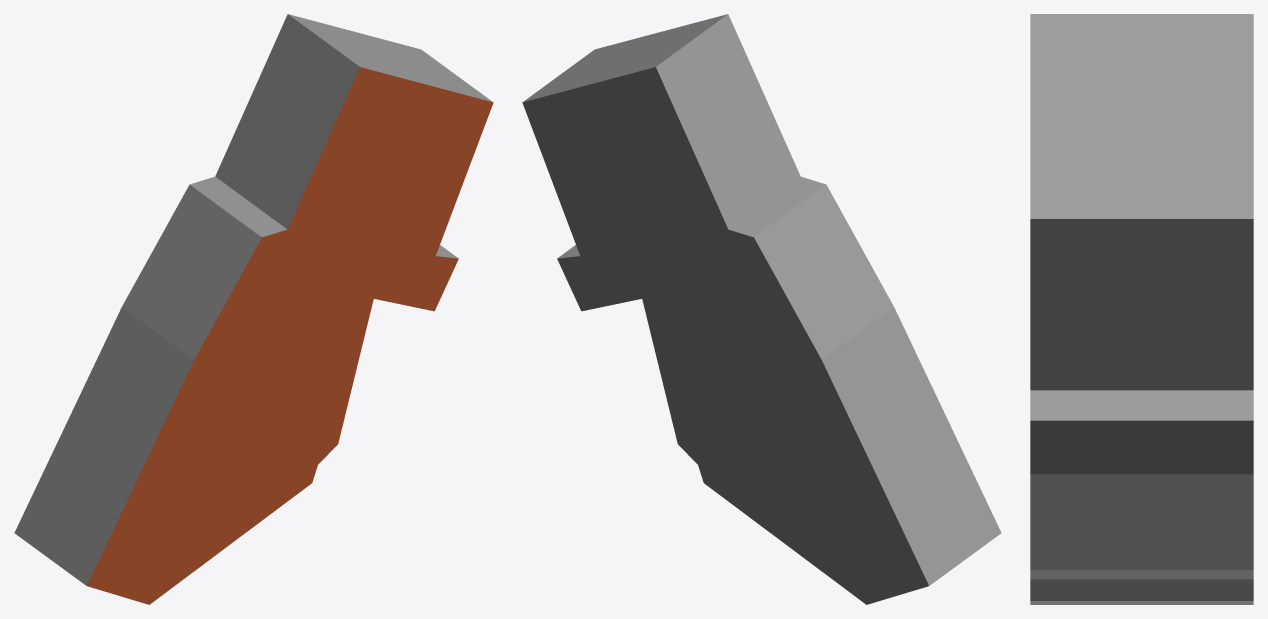
File: construction_2979_assumed_A_Casa_h6m.obj
The picture shows the model from 3 angles, left to right: view 1: azimuth 30°, elevation 25°; view 2: azimuth 150°, elevation 25°; view 3: azimuth 270°, elevation 25°; orthographic projection. The views are drawn at different scales.
Visible parts, largest first — view 1: construction_2979_assumed_A_Casa; view 2: construction_2979_assumed_A_Casa; view 3: construction_2979_assumed_A_Casa.
Part boxes in pixels (x1,y1,x2,y2): construction_2979_assumed_A_Casa: (14,14,493,604); construction_2979_assumed_A_Casa: (522,14,1001,604); construction_2979_assumed_A_Casa: (1030,14,1253,604).
Bounding box in the file's own units: 19.47 × 22.24 × 6.
